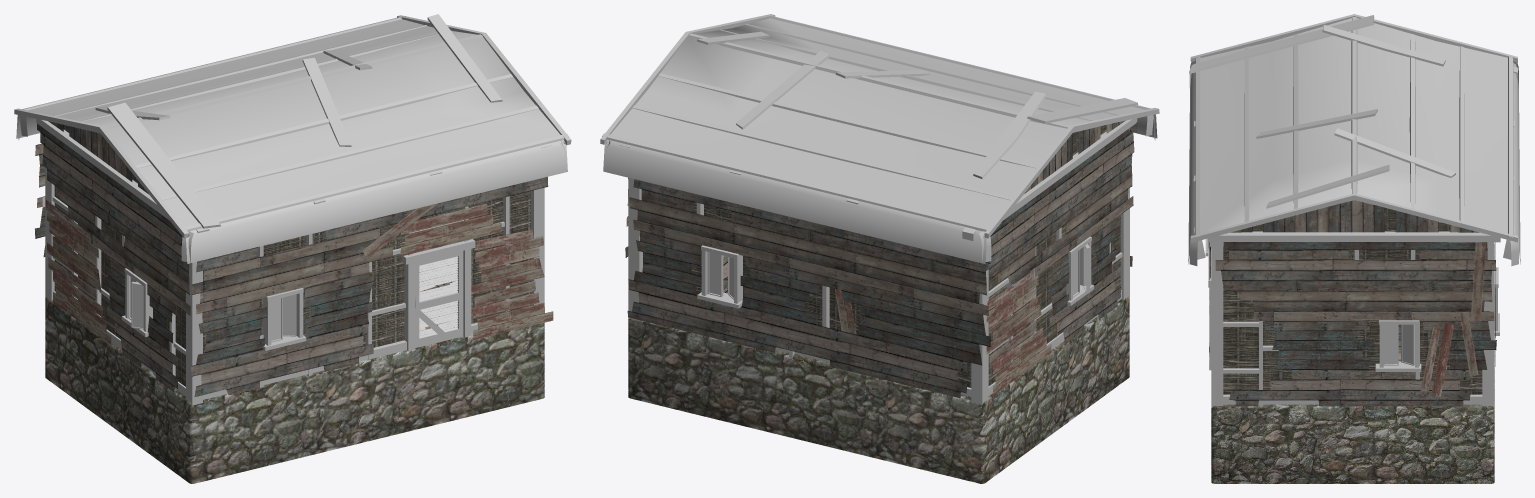
File: House7_LOD1.fbx
The picture shows the model from 3 angles, left to right: view 1: azimuth 30°, elevation 25°; view 2: azimuth 150°, elevation 25°; view 3: azimuth 270°, elevation 25°; orthographic projection. The views are drawn at different scales.
Parts seen in each view (by area): view 1: Base, Roof, Floor, Alpha, Doors; view 2: Base, Roof, Floor, Alpha; view 3: Roof, Base, Floor, Alpha.
Part boxes in pixels (x1,y1,x2,y2): Base: (35,123,553,405); Roof: (14,14,571,238); Floor: (45,263,544,483); Alpha: (16,115,567,263); Doors: (415,251,463,346); Base: (625,122,1137,404); Roof: (600,14,1159,240); Floor: (628,256,1129,483); Alpha: (603,114,1157,264); Roof: (1189,14,1517,242); Base: (1205,238,1499,407); Floor: (1211,244,1494,483); Alpha: (1188,61,1520,266).
Size of the model in its own units: 10.68 by 8.43 by 8.25.
